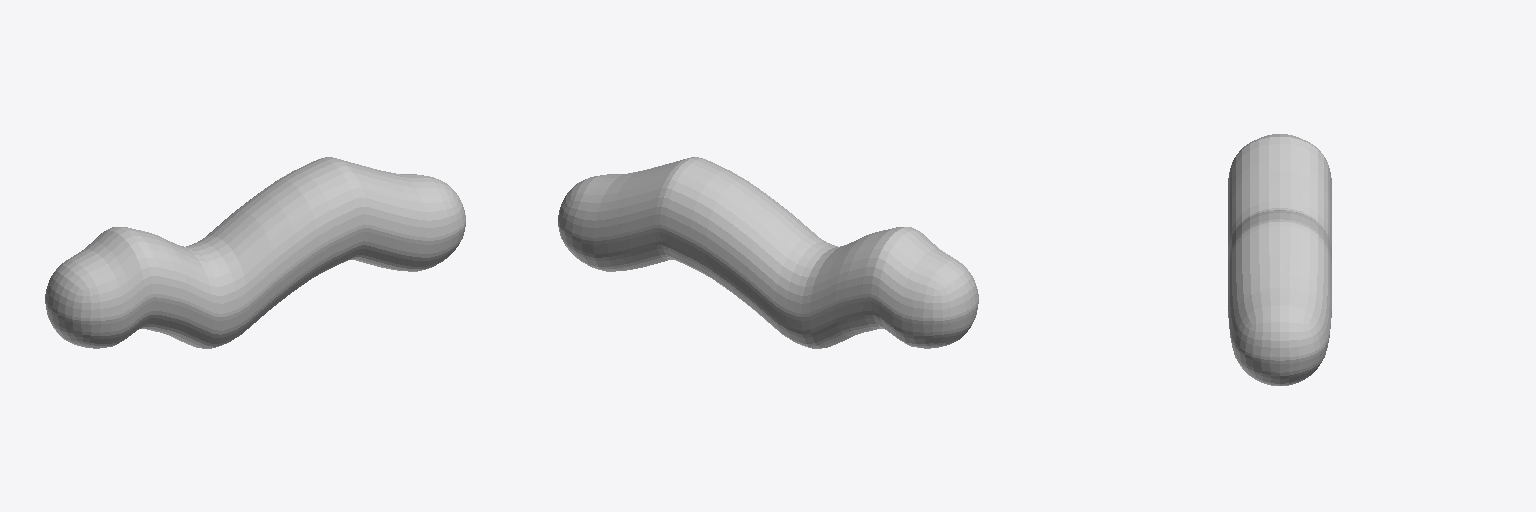
Rendered from Curly_Lambert.obj.
3 renders of one model, left to right at view 1: azimuth 30°, elevation 25°; view 2: azimuth 150°, elevation 25°; view 3: azimuth 270°, elevation 25°, orthographic.
Visible parts, largest first — view 1: Bacteria_Base_1; view 2: Bacteria_Base_1; view 3: Bacteria_Base_1.
Boxes of the visible parts, <box> form: Bacteria_Base_1: <box>45,157,465,348</box>; Bacteria_Base_1: <box>558,157,978,348</box>; Bacteria_Base_1: <box>1228,134,1331,385</box>.
Bounding box in the file's own units: 6.25 × 2.18 × 1.39.